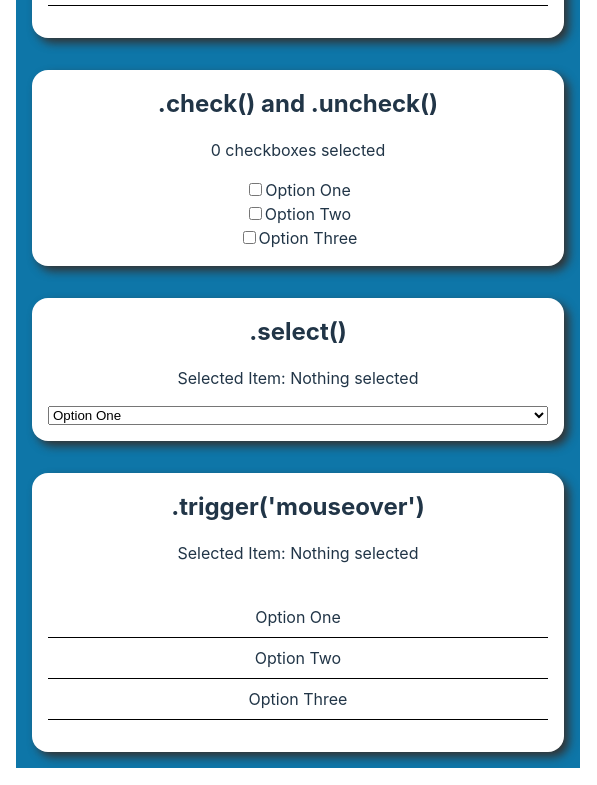
Test: basic page interactions › should sets the header text to the item name when hovered over
(page scrolled)
Hover over the list item "Option Three" below ".trigger('mouseover')" at [298, 700], box [48,679,548,720]
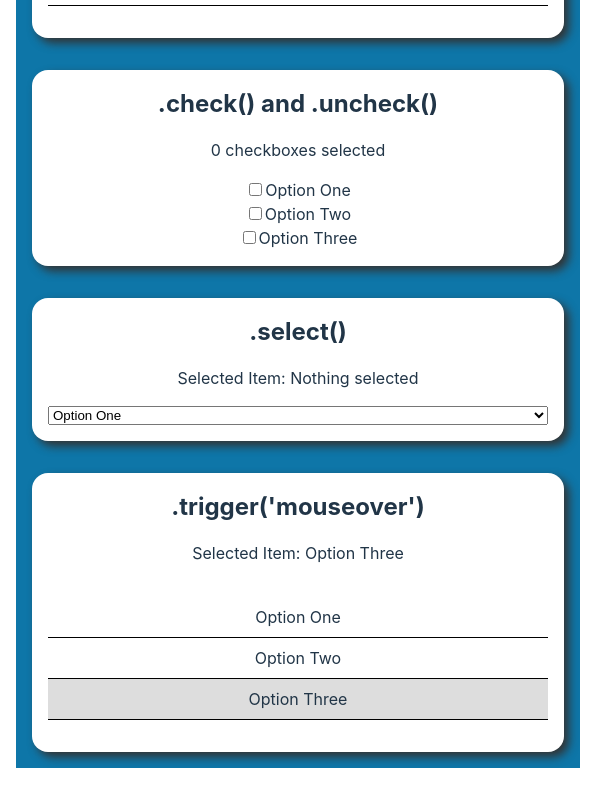
Now the text with test id "box-4-selected-name" reads "Option Three", box [305,543,404,563]
